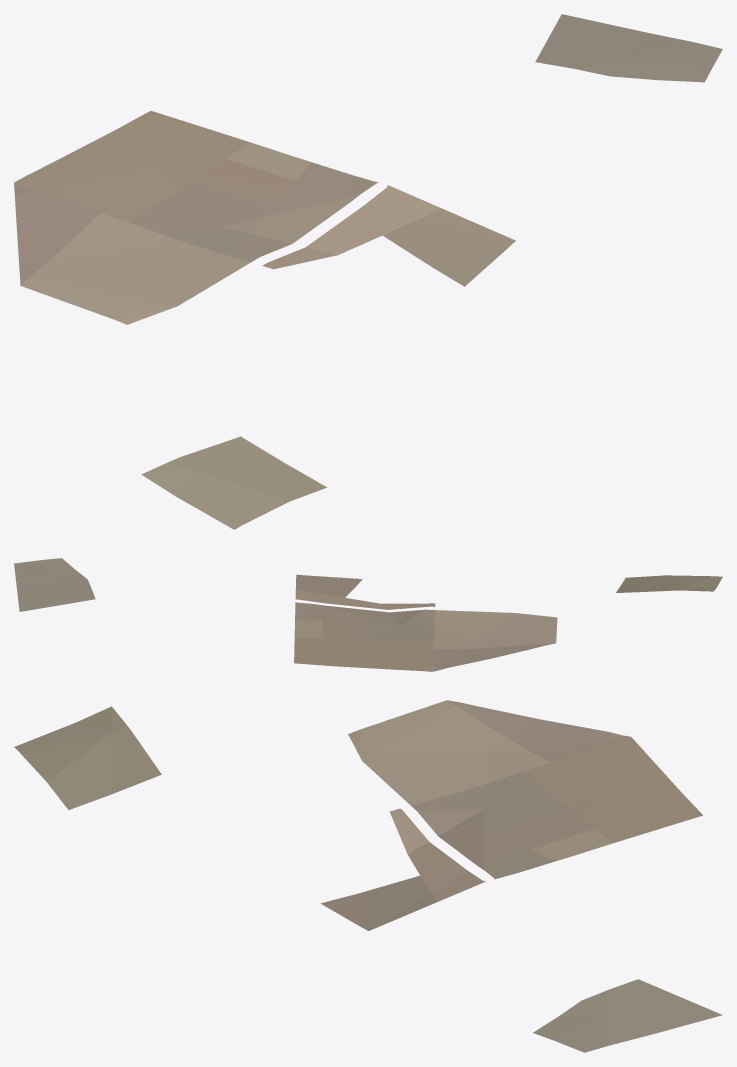
File: farm_-23_-27_soil.glb
The picture shows the model from 3 angles, top to bottom: view 1: azimuth 30°, elevation 25°; view 2: azimuth 150°, elevation 25°; view 3: azimuth 270°, elevation 25°; orthographic projection. The views are drawn at different scales.
Parts seen in each view (by area): view 1: geometry_0; view 2: geometry_0; view 3: geometry_0.
Boxes of the visible parts, x1,y1,x2,y2 form: geometry_0: (14, 14, 722, 529); geometry_0: (14, 558, 722, 671); geometry_0: (14, 700, 722, 1052).
Bounding box in the file's own units: 568 × 51.28 × 456.
